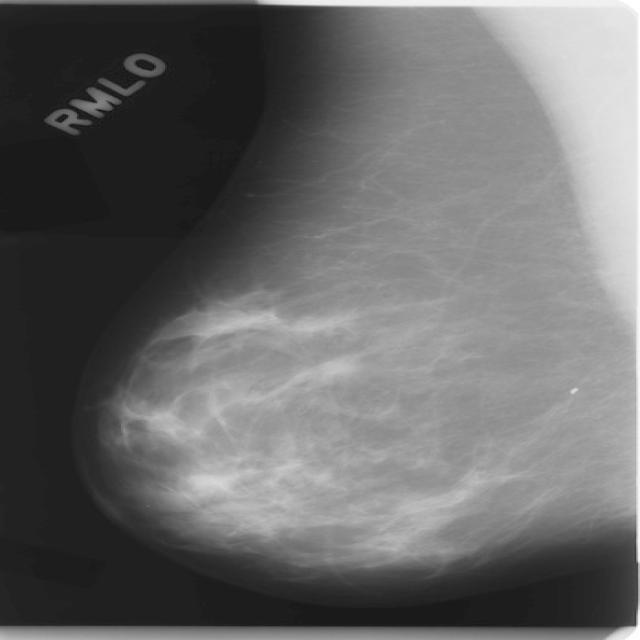tumour: (303, 354, 361, 378)
